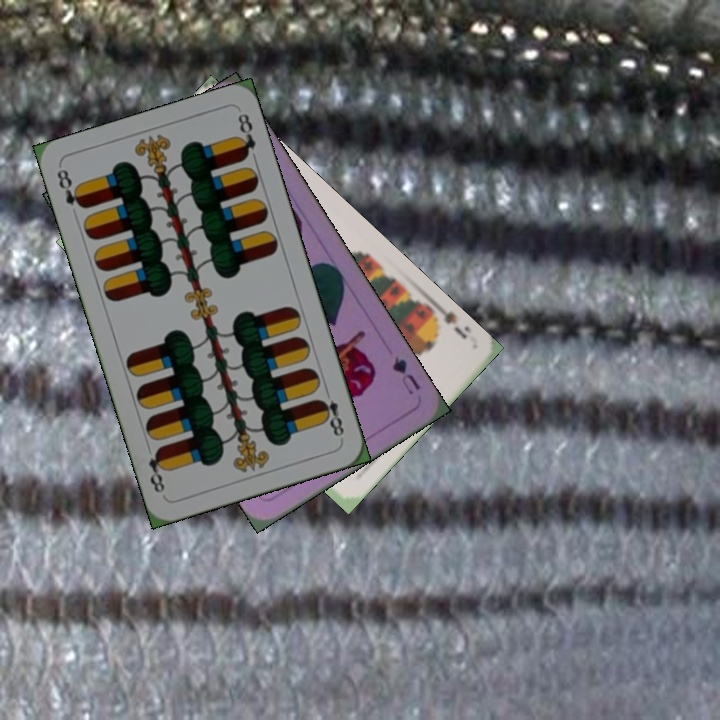E8: (314, 384, 347, 439), (53, 165, 88, 211)
GU: (388, 353, 423, 397)
S9: (423, 297, 470, 342)
